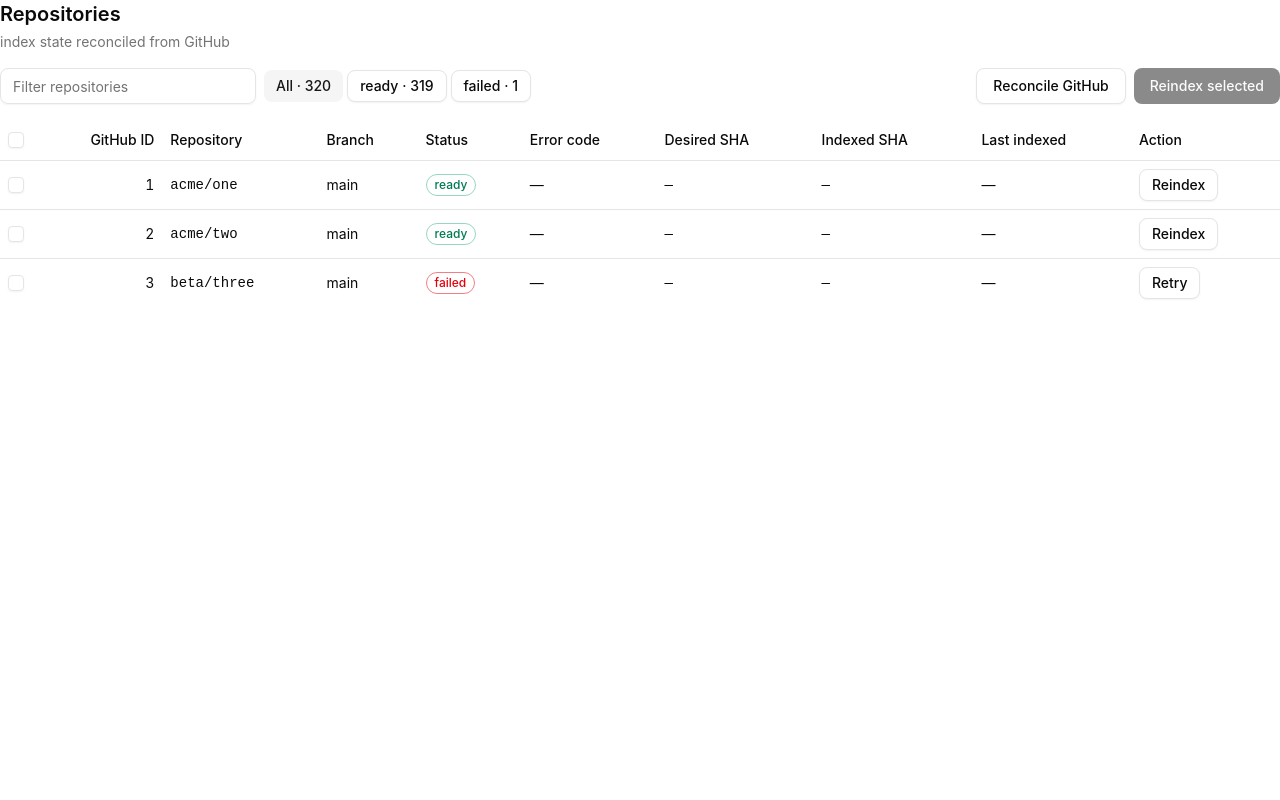
Test: repositories › filters by name and status, selects all visible rows and reindexes them after confirmation
Check: the row "3 beta/three main failed — — — — Retry" is shown, box [0,258,1279,306]
Check: the button "Reindex selected" is disabled, box [1134,68,1279,104]
Type "acme" into the field labelled "Filter repositories" at (128, 86), box [0,68,256,104]
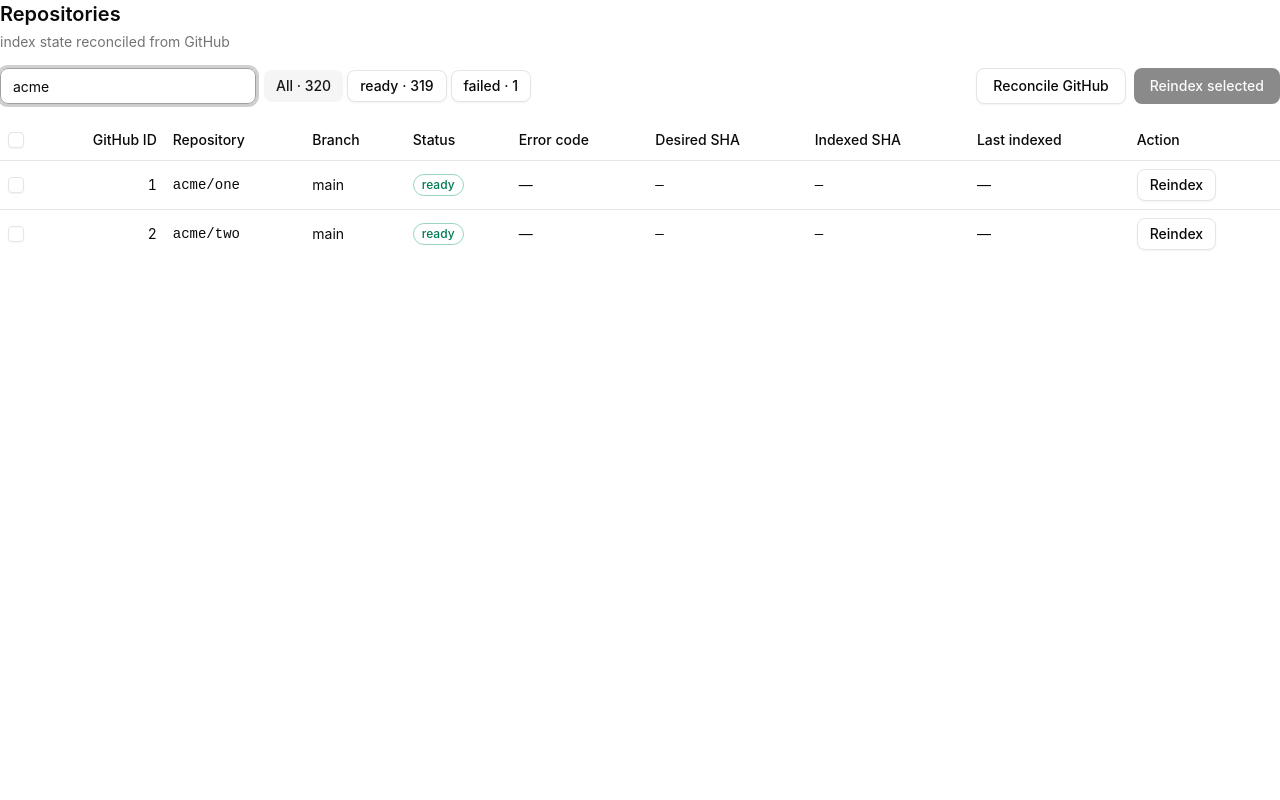
Check: the cell "beta/three" is gone
Click the checkbox named "Select all visible repositories" at (16, 140), box [8,132,24,148]
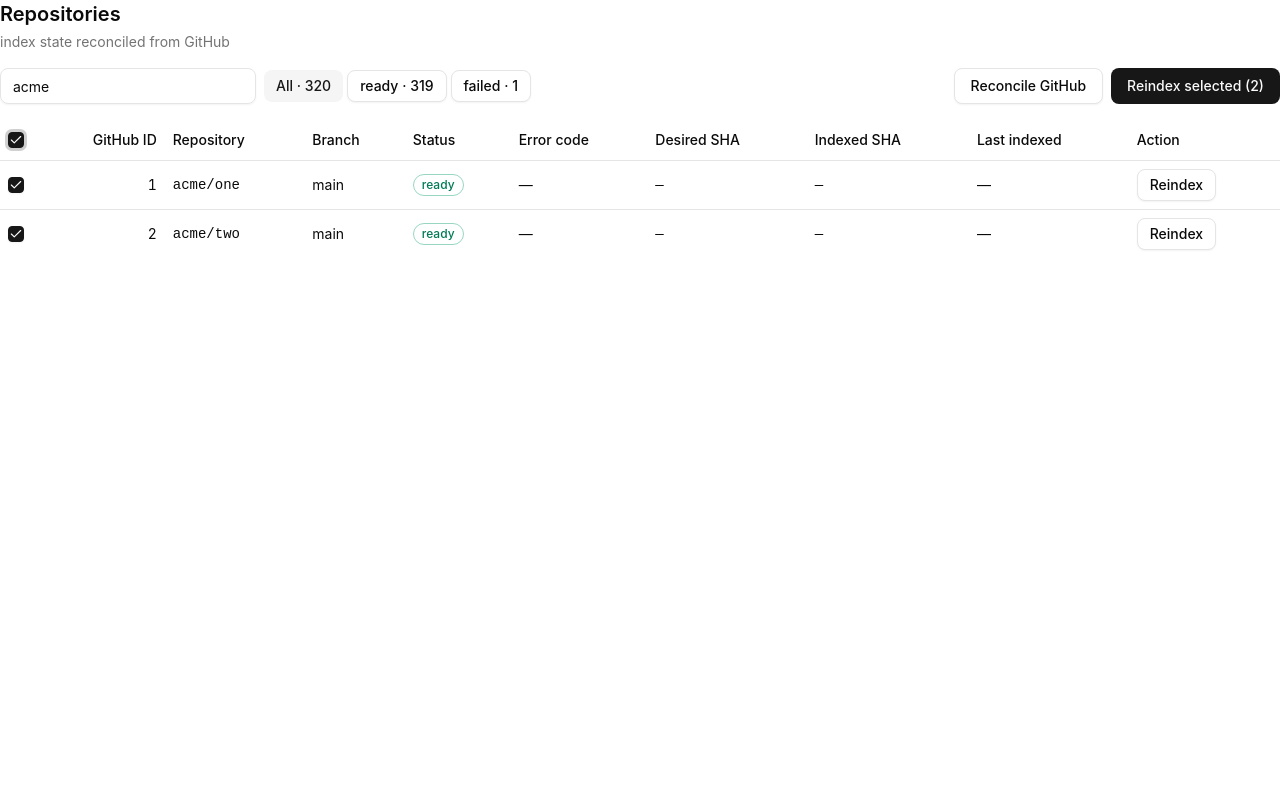
Check: the checkbox named "Select acme/two" is checked, box [8,226,24,242]
Click the button "Reindex selected (2)" at (1196, 86), box [1111,68,1279,104]
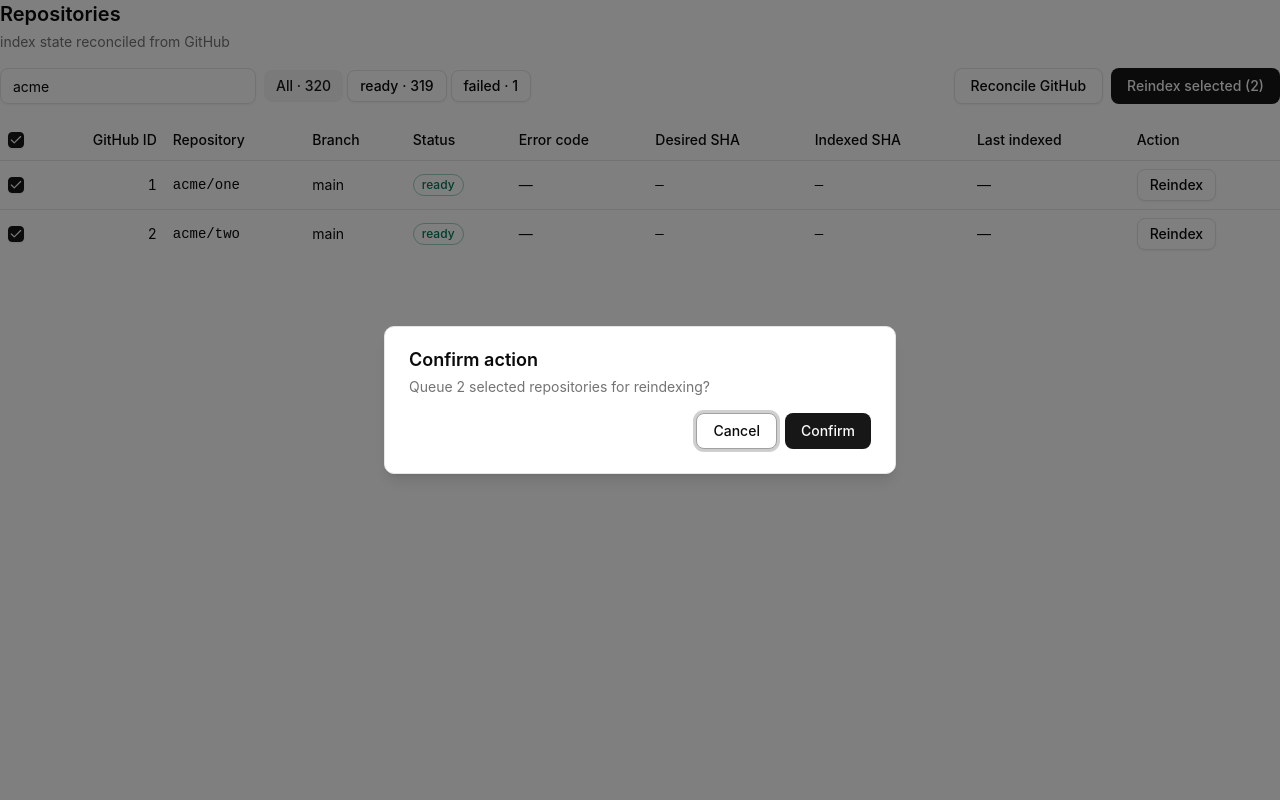
Check: the text "Queue 2 selected repositories for reindexing?" is shown, box [409,378,710,395]
Click the button "Confirm" at (828, 431), box [785,413,871,449]
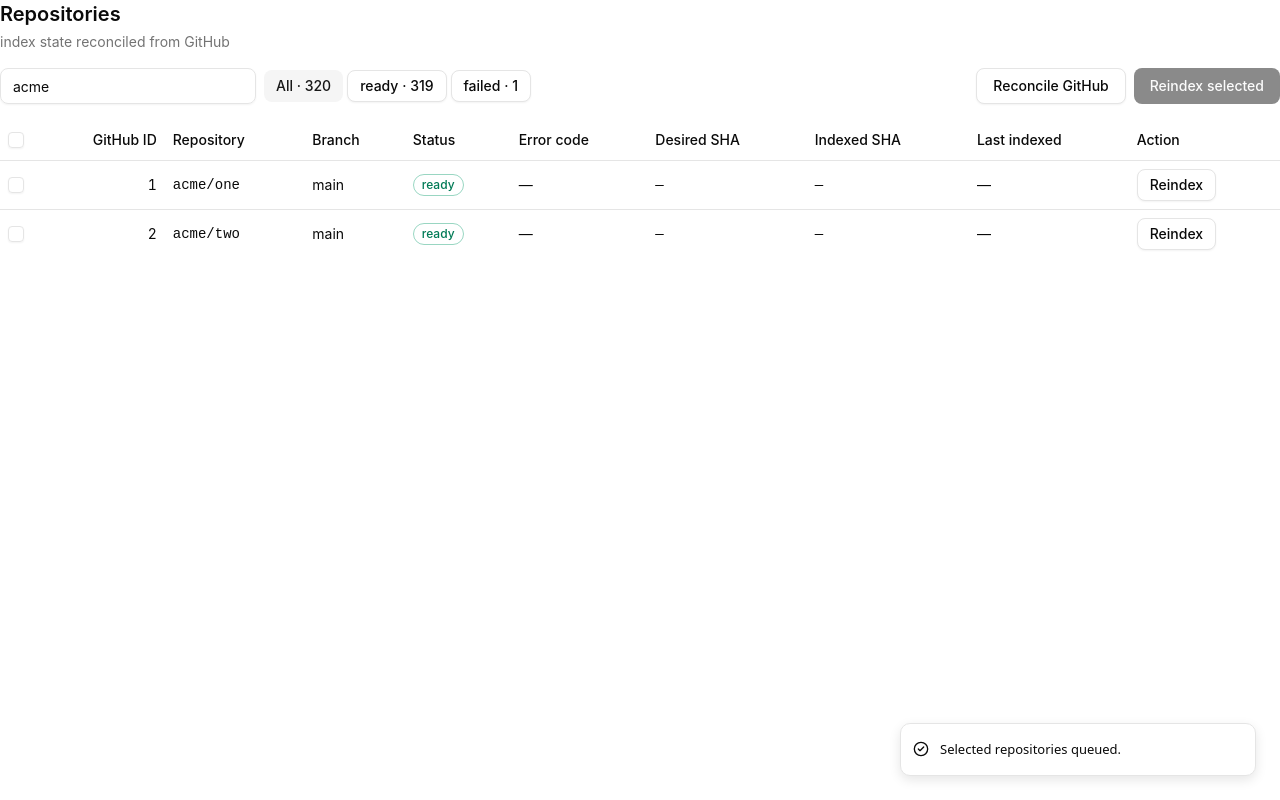
Check: the text "Selected repositories queued." is shown, box [940,740,1121,759]
Clear the field named "Filter repositories" at (128, 86), box [0,68,256,104]
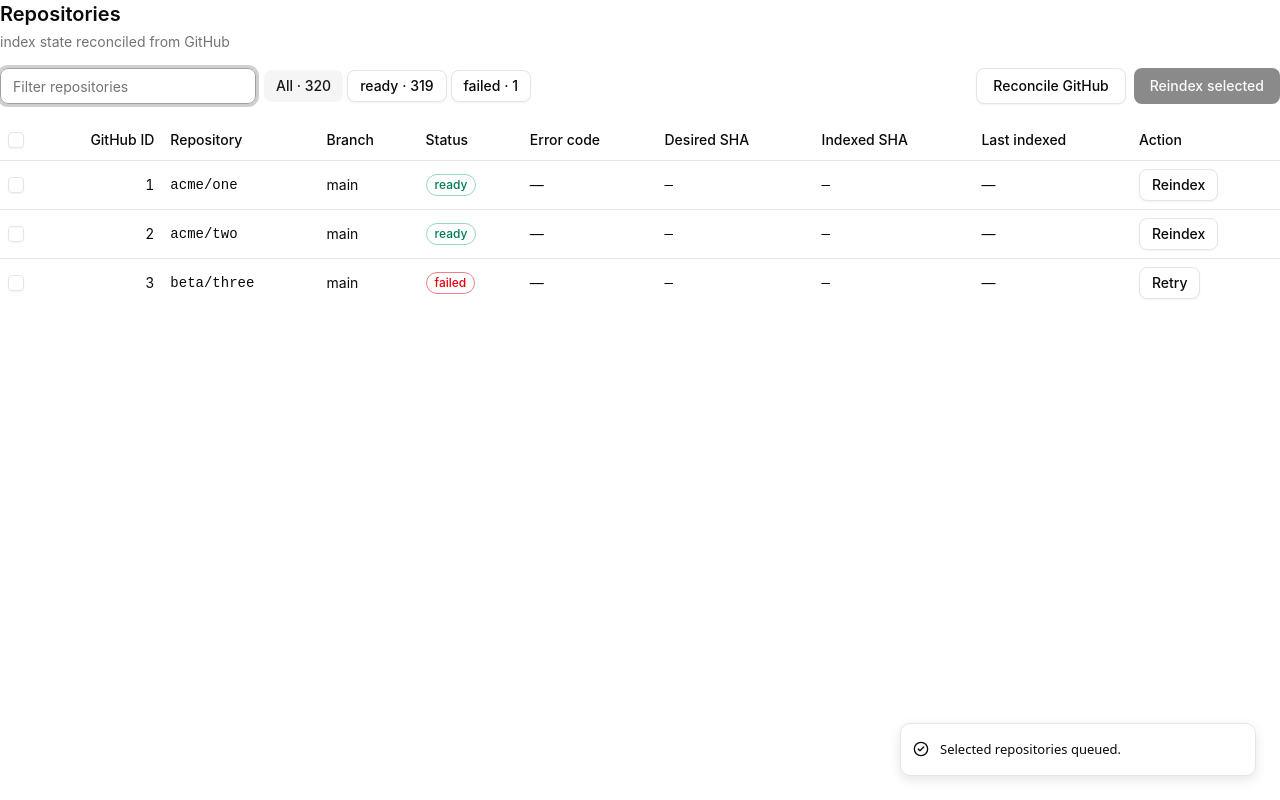
Click the button "failed · 1" at (491, 86), box [450,70,531,102]
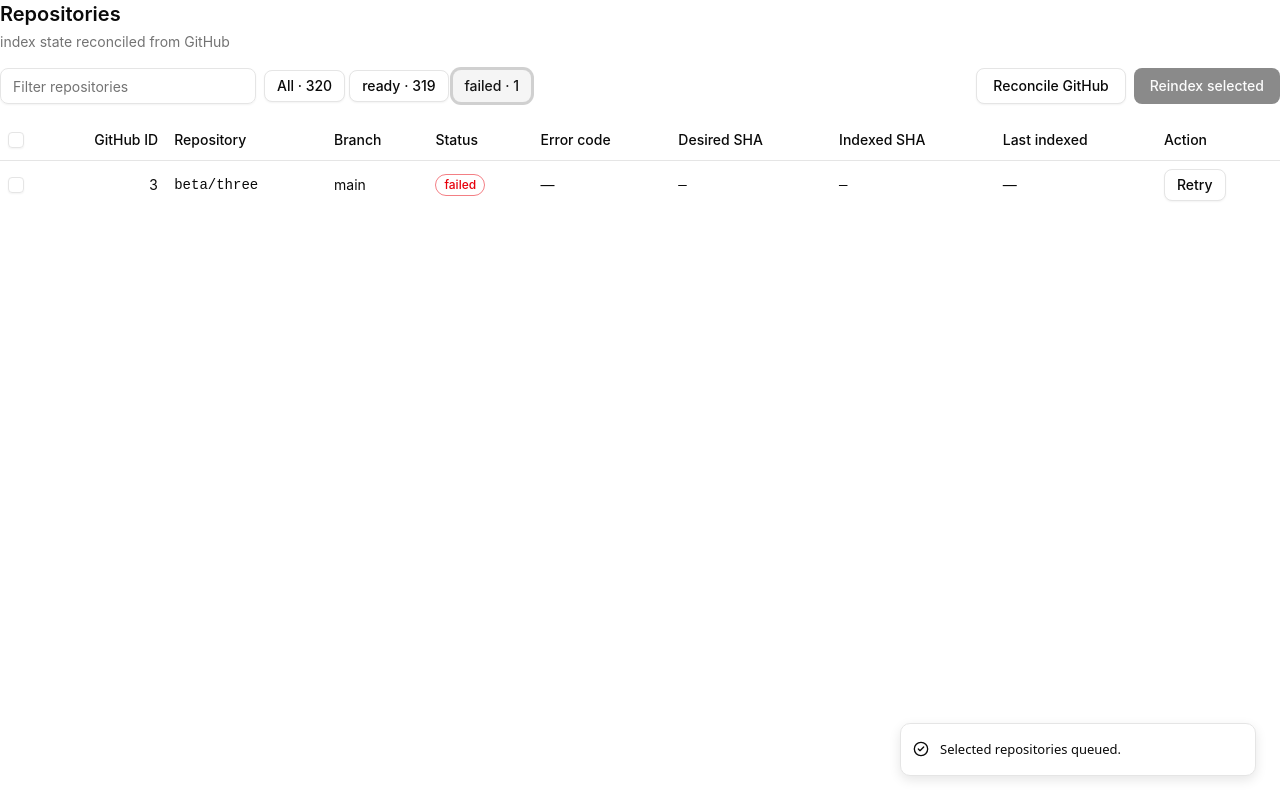
Check: the row "3 beta/three main failed — — — — Retry" is shown, box [0,160,1279,208]
Check: the cell "acme/one" is gone
